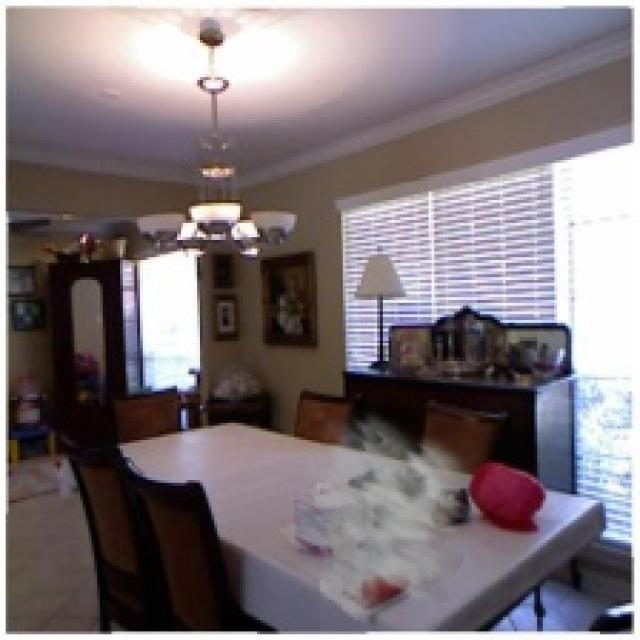Smoke: (277, 403, 503, 634)
